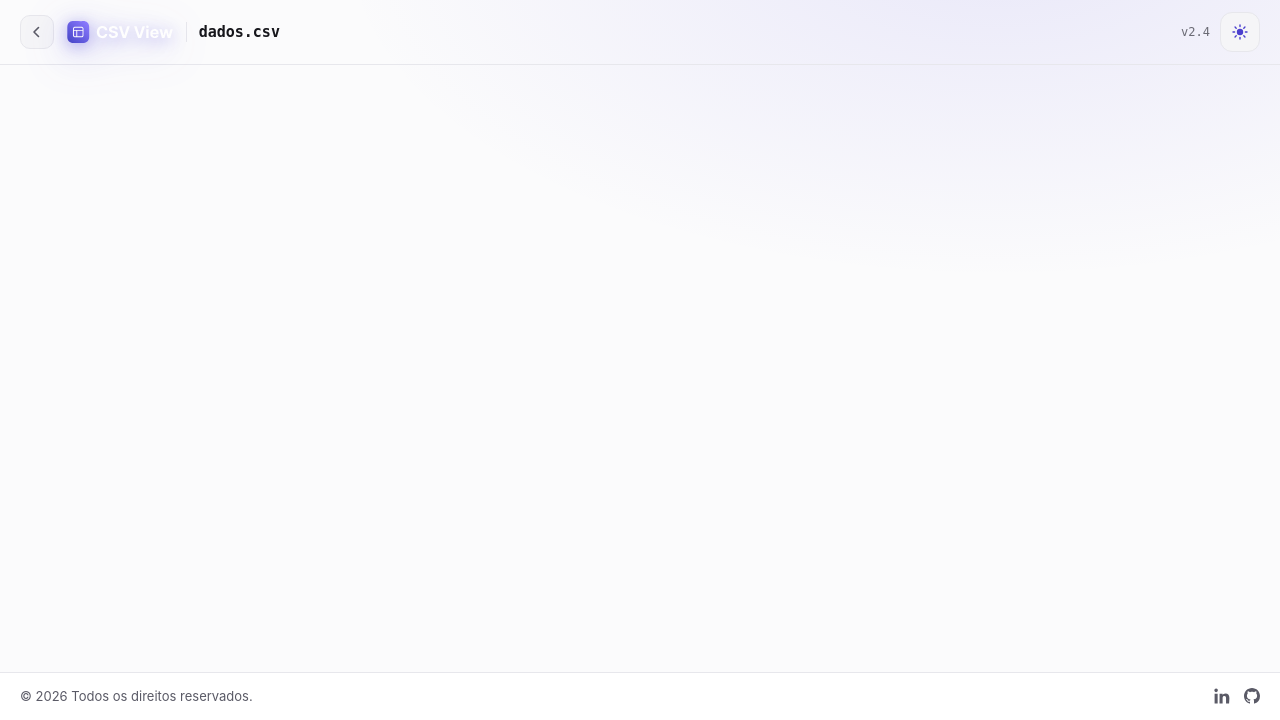
DefaultLayout — guard de alterações não salvas ao clicar em "Voltar"/logo › com edição pendente, clicar no botão de voltar abre o modal em vez de navegar
What coordinates should you click on to do the following:
click the link with class "back-button"
I would click on:
 (37, 32)
Its box is [20, 15, 54, 49].
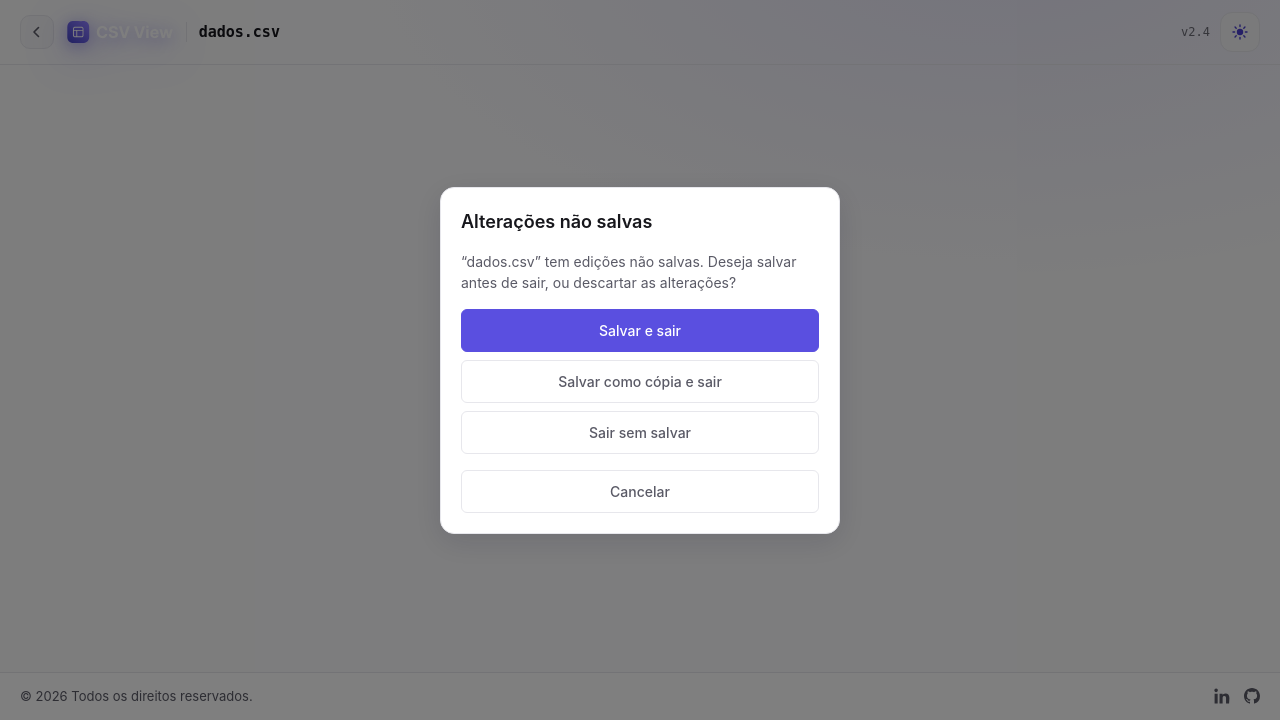
Expected: the element with class "unsaved-overlay" is shown
Expected: the text with class "unsaved-overlay__message" shows "dados.csv", [461, 252, 796, 290]
